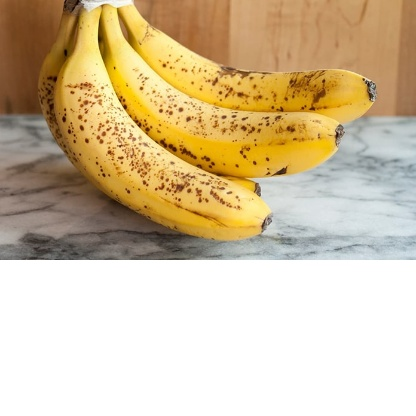chuoi: (26, 6, 372, 248)
